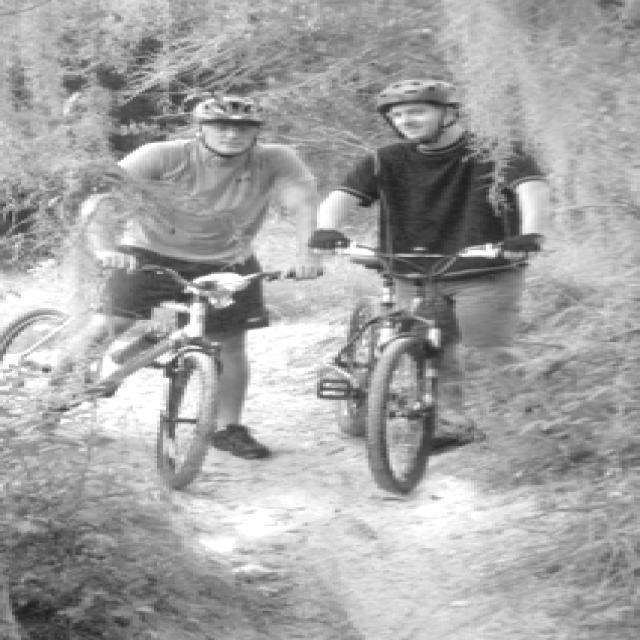Helmet: (374, 76, 477, 144), (184, 92, 278, 160)
